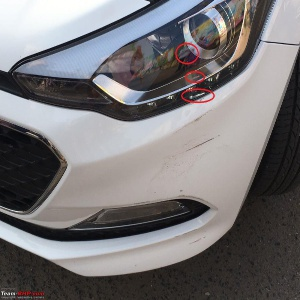bumper_scratch: (159, 107, 234, 177)
